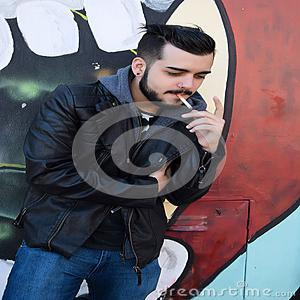cigarette: (177, 93, 195, 110)
